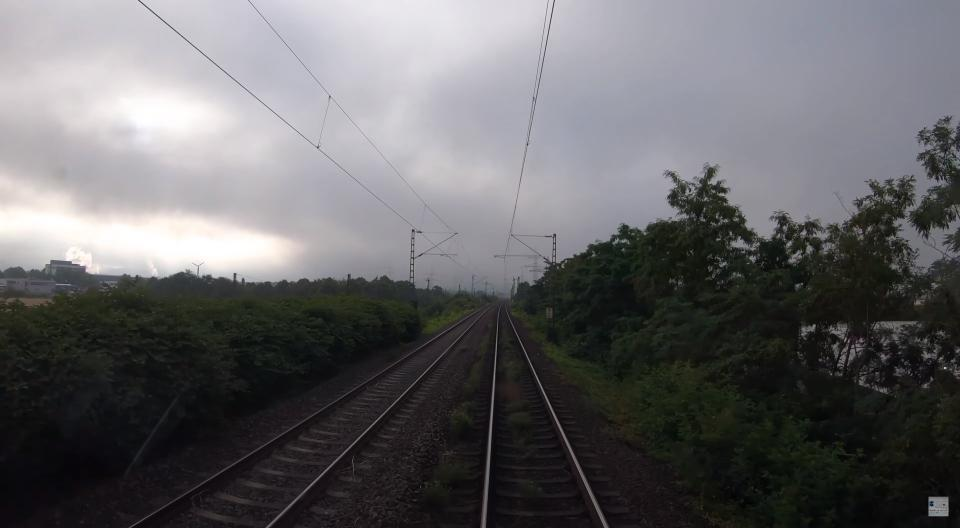Plant: (514, 313, 669, 460), (498, 329, 527, 412), (464, 322, 494, 397), (432, 461, 472, 487), (450, 402, 474, 440), (511, 429, 537, 463), (420, 482, 450, 510), (516, 478, 543, 501), (508, 413, 530, 431), (458, 346, 472, 354)
